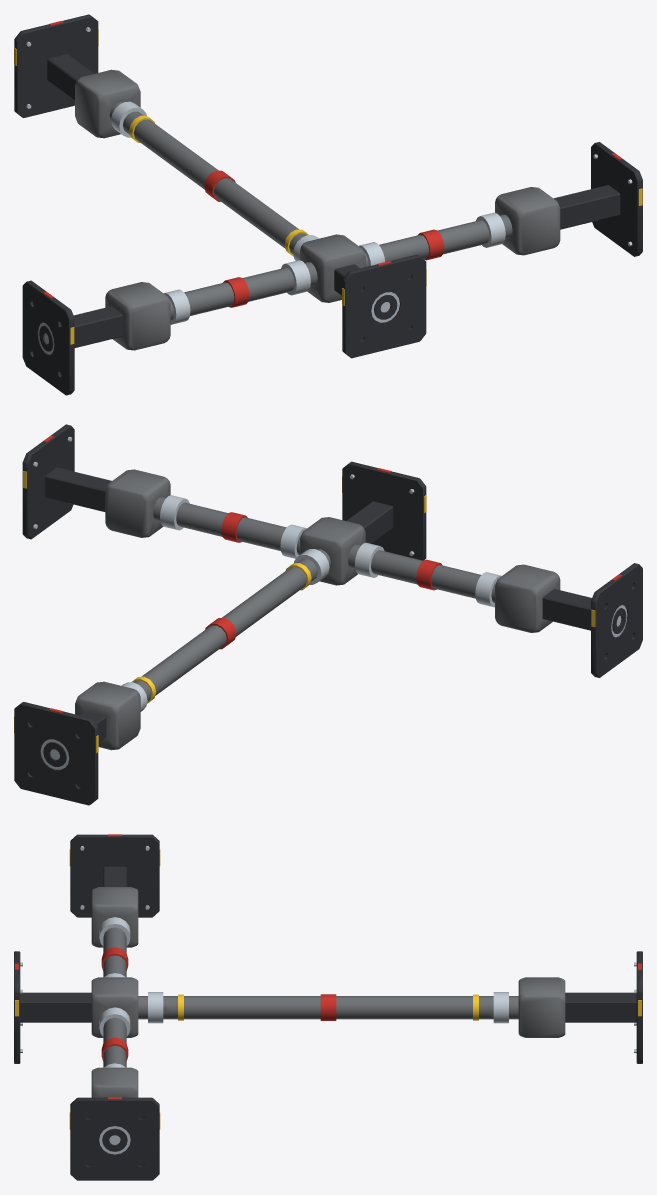
Rendered from R4C_ROD_T.glb.
3 views of the same model, one above another, from view 1: azimuth 30°, elevation 25°; view 2: azimuth 150°, elevation 25°; view 3: azimuth 270°, elevation 25° (orthographic). The views are drawn at different scales.
Visible parts, largest first — view 1: R4C_ROD_T; view 2: R4C_ROD_T; view 3: R4C_ROD_T.
Part boxes in pixels (x1,y1,x2,y2): R4C_ROD_T: (14, 14, 642, 395); R4C_ROD_T: (14, 424, 642, 805); R4C_ROD_T: (14, 834, 642, 1180).
Bounding box in the file's own units: 1.62 × 0.2316 × 1.62.
